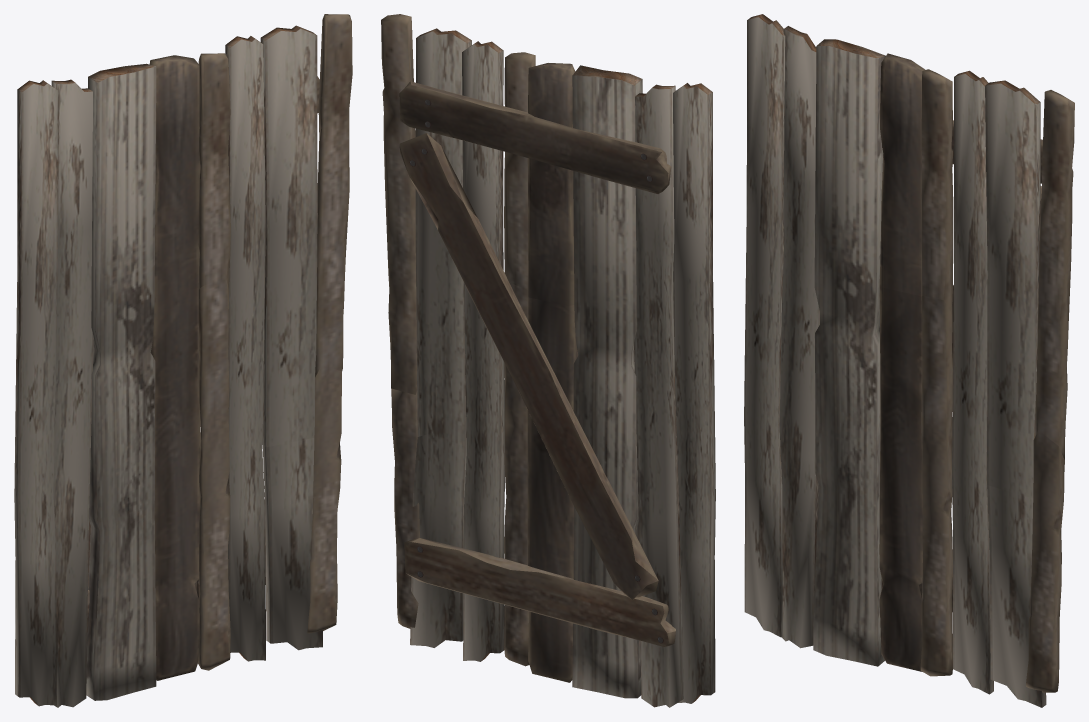
File: WoodWall.fbx
3 renders of one model, left to right at view 1: azimuth 30°, elevation 25°; view 2: azimuth 150°, elevation 25°; view 3: azimuth 330°, elevation 25°, orthographic.
Visible parts, largest first — view 1: SM_UKR_WallA_01.mo; view 2: SM_UKR_WallA_01.mo; view 3: SM_UKR_WallA_01.mo.
Boxes of the visible parts, x1=… form: SM_UKR_WallA_01.mo: x1=14, y1=14, x2=352, y2=707; SM_UKR_WallA_01.mo: x1=381, y1=14, x2=715, y2=707; SM_UKR_WallA_01.mo: x1=744, y1=14, x2=1074, y2=707.
Bounding box in the file's own units: 178 × 323 × 14.56.
